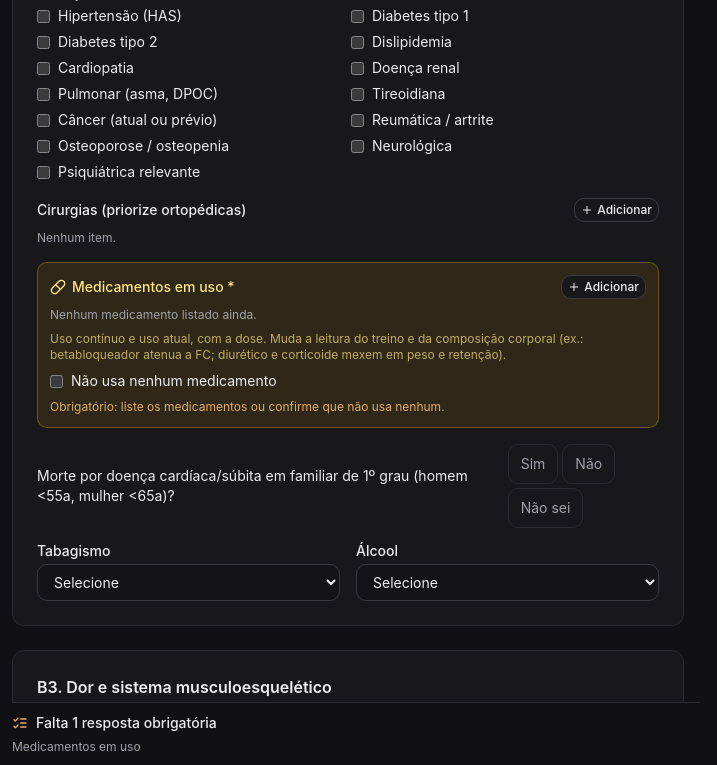
Test case: AnamneseNova — edição › sem resposta sobre medicamentos, o salvamento fica bloqueado
This screenshot has width=717, height=765.
(page scrolled)
Expected: the text "Obrigatório: liste os medicamentos ou confirme que não usa nenhum." is shown, [50,399,445,414]
Click the checkbox labelled "Não usa nenhum medicamento" at (56, 381), box [50,374,63,388]
(page scrolled)
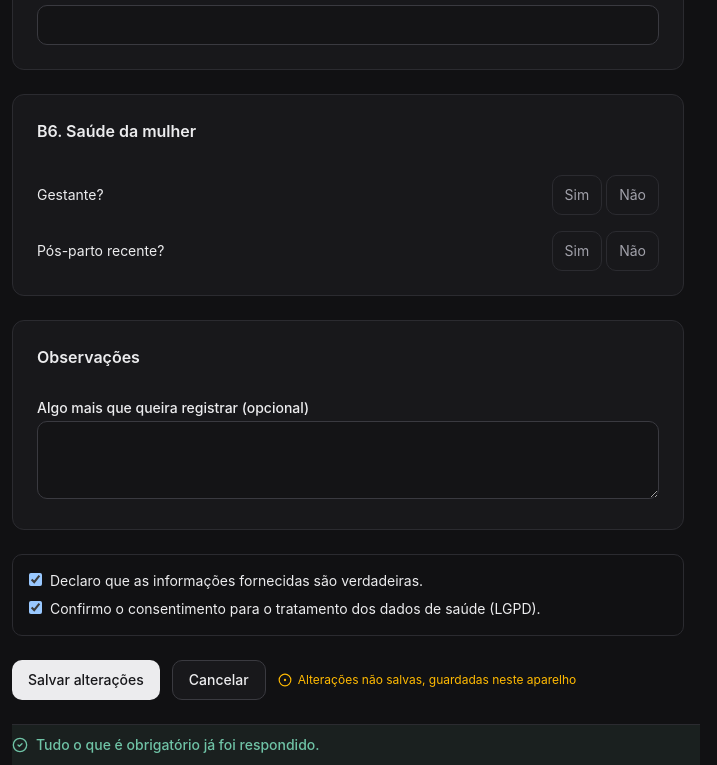
Now the button "Salvar alterações" is enabled, box [12,660,160,700]
